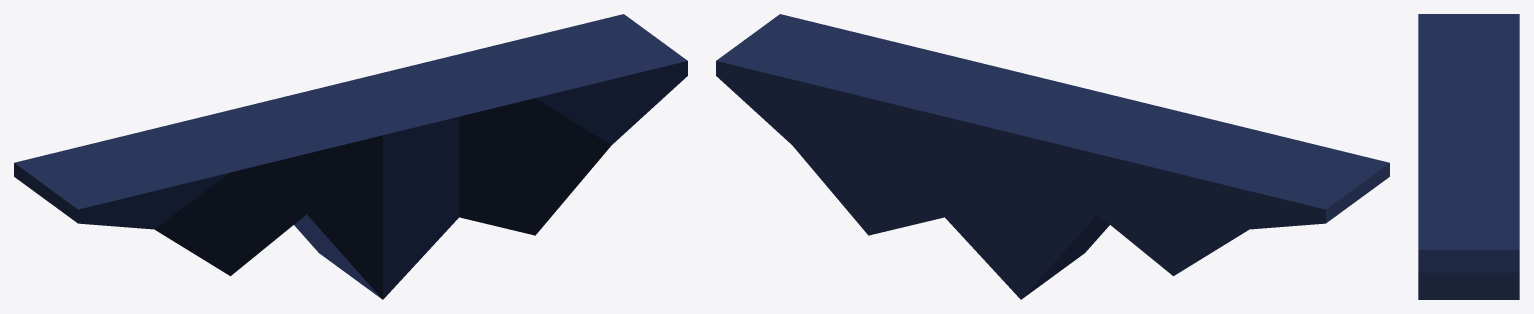
Rendered from shortGround.obj.
The picture shows the model from 3 angles, left to right: view 1: azimuth 30°, elevation 25°; view 2: azimuth 150°, elevation 25°; view 3: azimuth 270°, elevation 25°; orthographic projection. The views are drawn at different scales.
Parts seen in each view (by area): view 1: 立方体.001; view 2: 立方体.001; view 3: 立方体.001.
Boxes of the visible parts, x1,y1,x2,y2 form: 立方体.001: (14, 14, 687, 299); 立方体.001: (716, 14, 1389, 299); 立方体.001: (1418, 14, 1519, 299).
Size of the model in its own units: 3.3 by 0.852 by 0.6.
